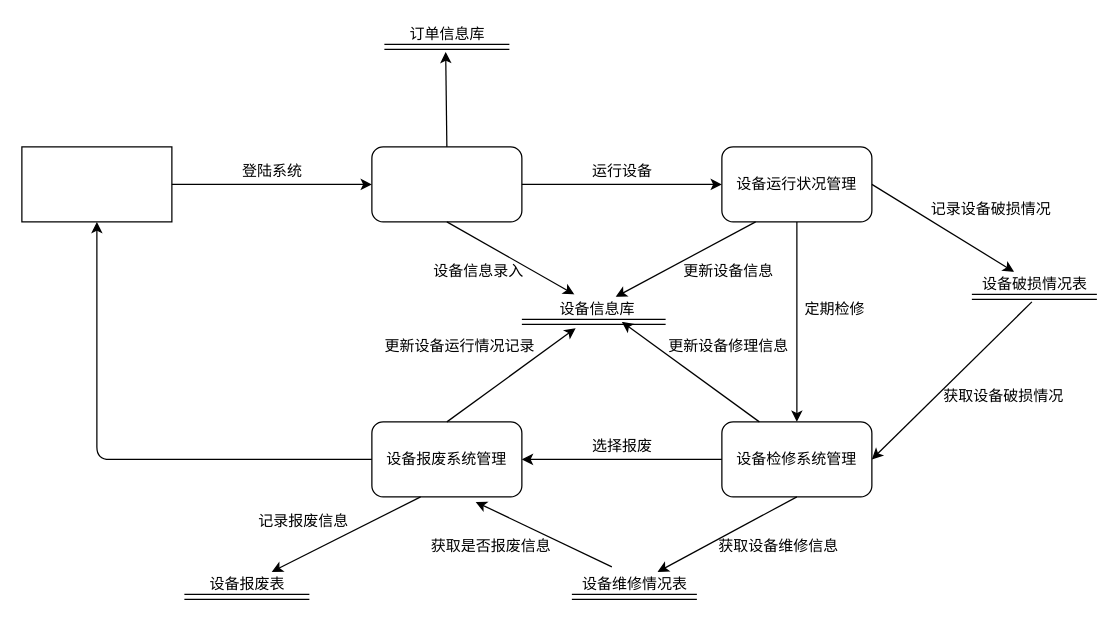
The diagram is 1119 pixels wide and 621 high, and some of its shapes have lost their labels. Here are the shapes that lost their labels. From the top down, the centre of each, then its label:
pixel 96 184: 管理员
pixel 446 184: 设备入库管理
